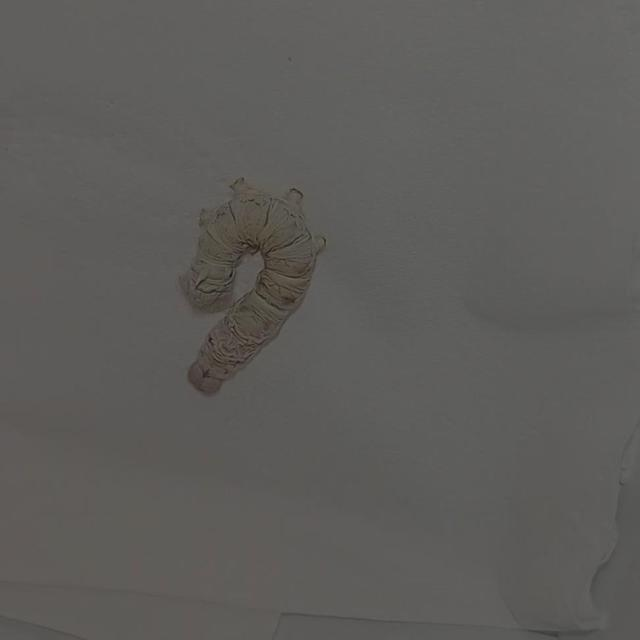Healthy: (120, 142, 354, 416)
